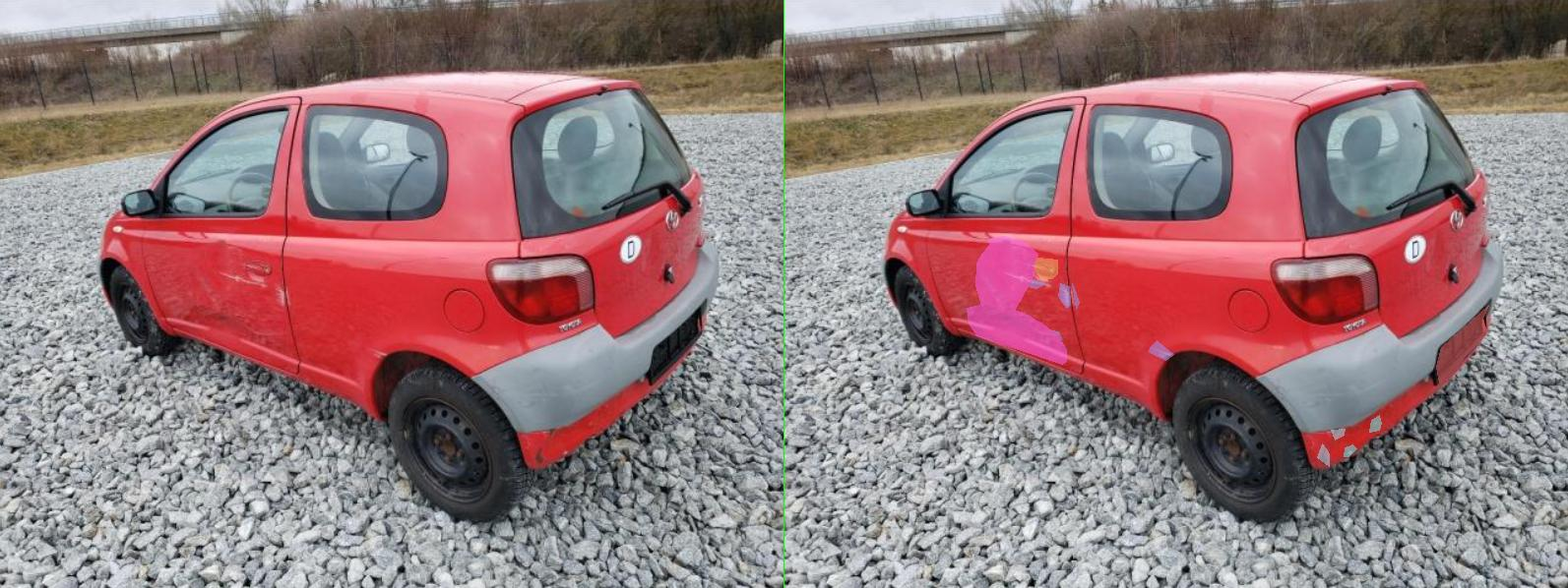Corrosion: (1066, 443, 1089, 466), (1093, 429, 1121, 440)
Dent: (364, 303, 563, 364), (382, 236, 506, 313)
Flaking: (1170, 415, 1194, 432), (1119, 444, 1144, 456)
Missing part: (1304, 305, 1408, 382)
Paint chip: (500, 258, 546, 279)
Scratch: (429, 271, 522, 288), (489, 323, 555, 339), (727, 340, 778, 360), (548, 283, 571, 308), (575, 283, 589, 309)
